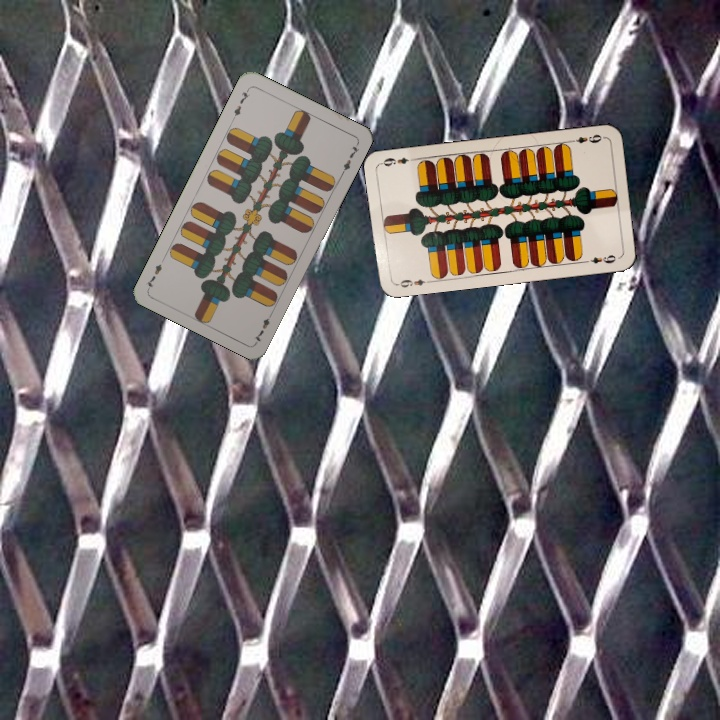E7: (250, 307, 276, 345), (228, 85, 253, 122)
E9: (565, 130, 604, 146), (392, 275, 433, 290)
